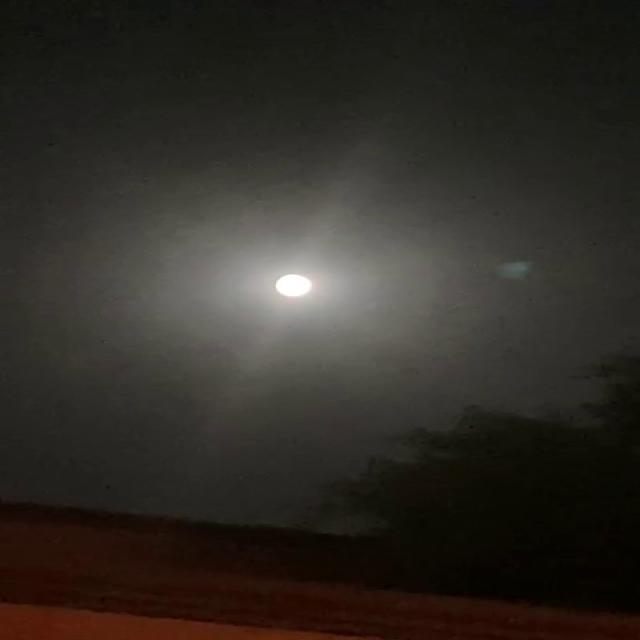moon: (286, 268, 344, 300)
